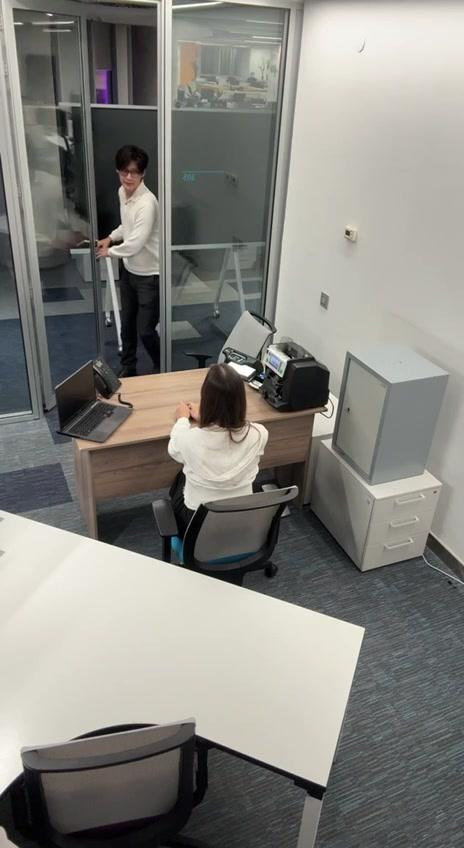counter: (260, 340, 328, 415)
door_open: (90, 13, 166, 368)
uv_lamp: (219, 349, 261, 380)
